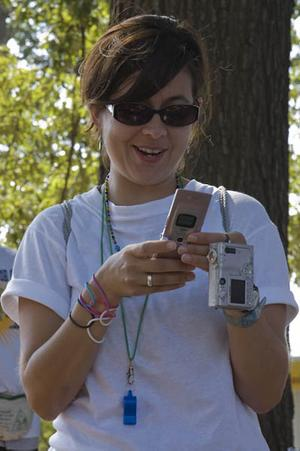person: (5, 14, 291, 450)
